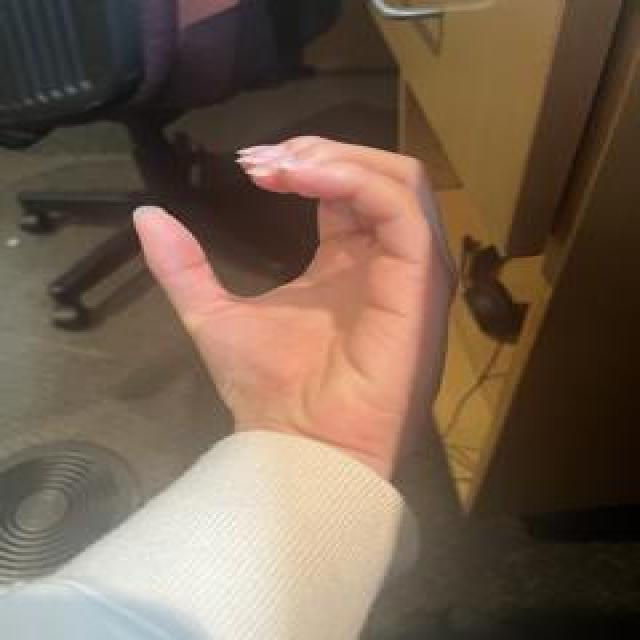C: (129, 133, 468, 465)
